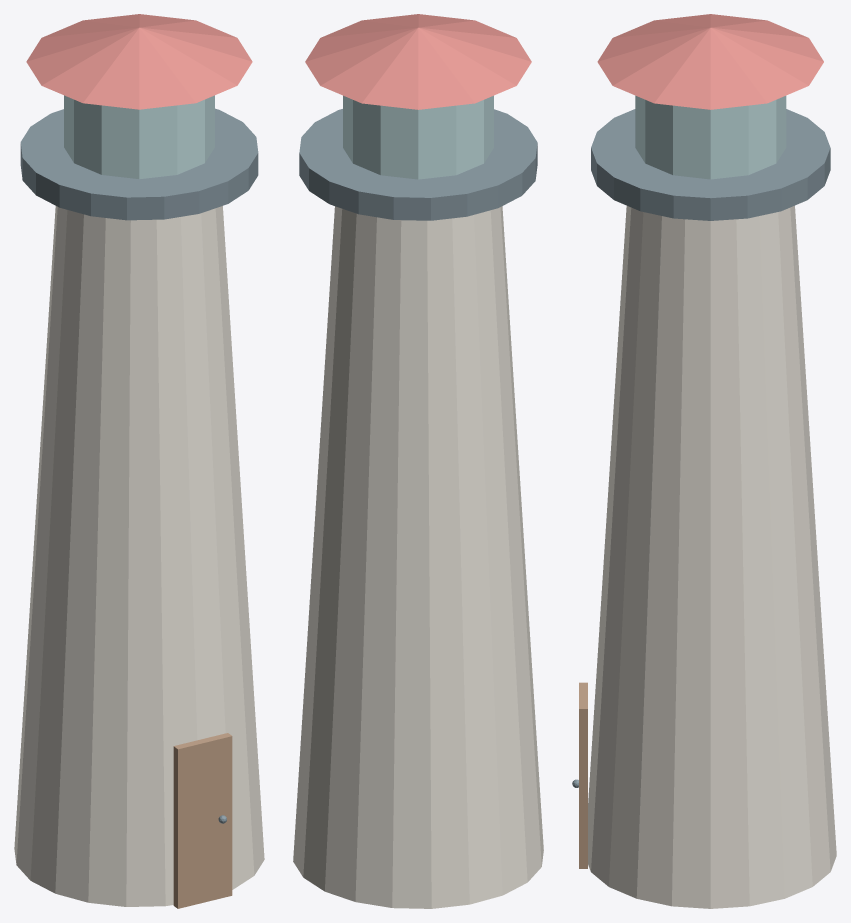
The model's file is lighthouse.glb.
3 renders of one model, left to right at view 1: azimuth 30°, elevation 25°; view 2: azimuth 150°, elevation 25°; view 3: azimuth 270°, elevation 25°, orthographic.
Parts seen in each view (by area): view 1: lighthouse_000, lighthouse_005, lighthouse_003, lighthouse_004, lighthouse_006; view 2: lighthouse_000, lighthouse_005, lighthouse_003, lighthouse_004; view 3: lighthouse_000, lighthouse_005, lighthouse_003, lighthouse_004, lighthouse_006.
Boxes of the visible parts, <box> form: lighthouse_000: <box>14,206,264,906</box>; lighthouse_005: <box>26,14,252,109</box>; lighthouse_003: <box>20,108,258,220</box>; lighthouse_004: <box>64,95,214,179</box>; lighthouse_006: <box>173,733,232,908</box>; lighthouse_000: <box>293,206,543,908</box>; lighthouse_005: <box>305,14,531,109</box>; lighthouse_003: <box>299,109,537,220</box>; lighthouse_004: <box>343,95,493,179</box>; lighthouse_000: <box>588,205,836,908</box>; lighthouse_005: <box>597,14,823,109</box>; lighthouse_003: <box>591,109,830,220</box>; lighthouse_004: <box>635,95,786,179</box>; lighthouse_006: <box>579,682,587,868</box>.
Bounding box in the file's own units: 2 × 7.25 × 2.1.
